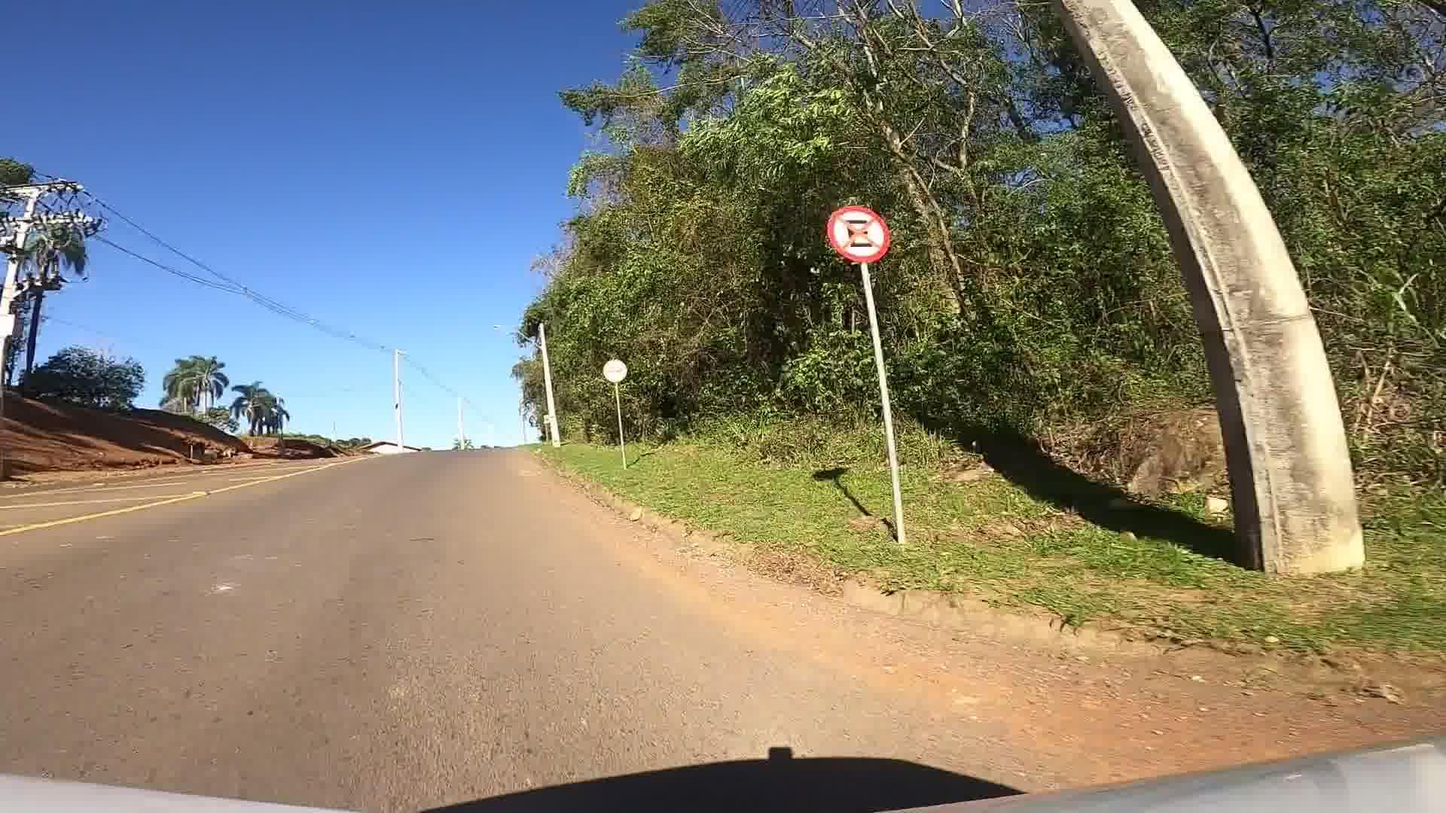R-6c: (820, 205, 895, 266)
